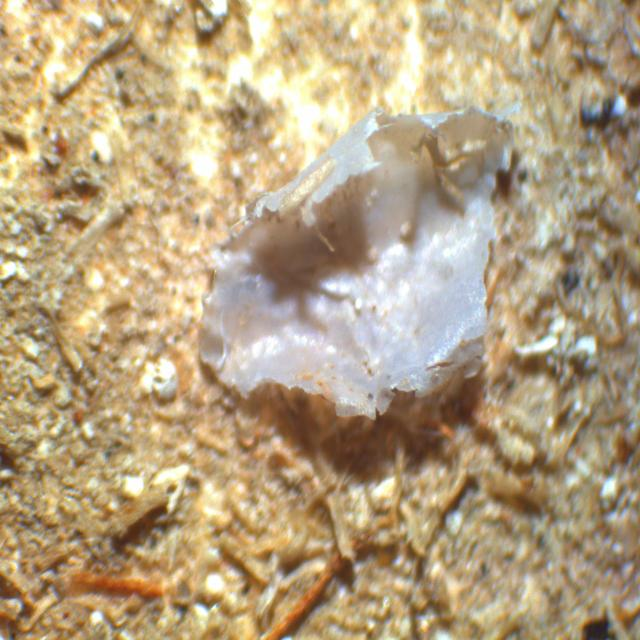microplastic: (196, 105, 515, 418)
